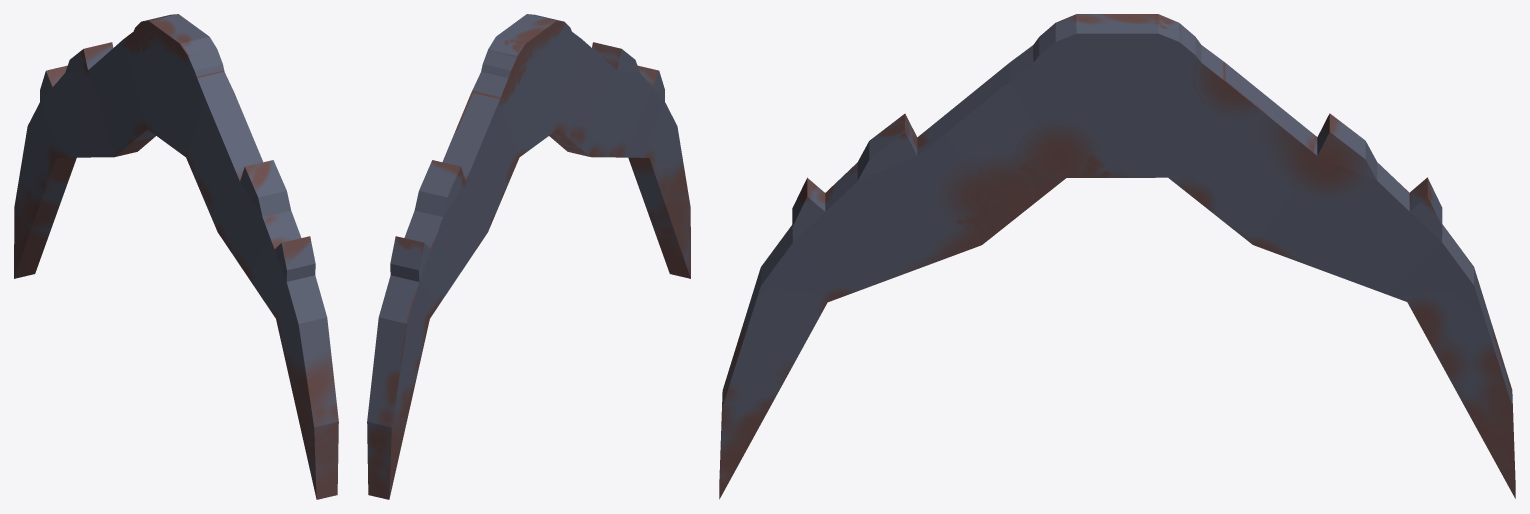
Rendered from Arma.fbx.
3 views of the same model, side by side, from view 1: azimuth 30°, elevation 25°; view 2: azimuth 150°, elevation 25°; view 3: azimuth 270°, elevation 25° (orthographic). The views are drawn at different scales.
Parts seen in each view (by area): view 1: Cube; view 2: Cube; view 3: Cube.
Part boxes in pixels (x1=…): Cube: x1=14, y1=14, x2=338, y2=499; Cube: x1=367, y1=14, x2=690, y2=499; Cube: x1=719, y1=14, x2=1515, y2=499.
Size of the model in its own units: 0.000591 by 0.00646 by 0.00988.
1 material, 1 textured.
